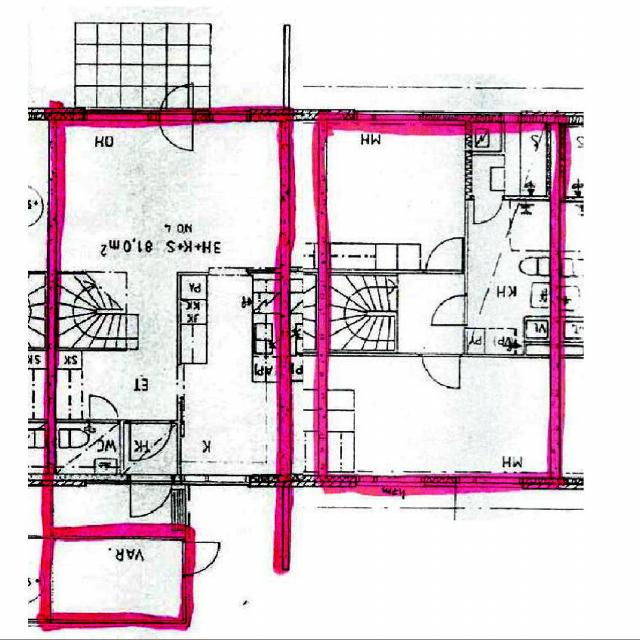door: (130, 473, 172, 525), (129, 419, 170, 459), (422, 352, 460, 392), (159, 107, 192, 152), (159, 76, 192, 120), (426, 235, 462, 273), (178, 543, 217, 574), (432, 296, 469, 326), (474, 196, 503, 226), (90, 394, 116, 422)
